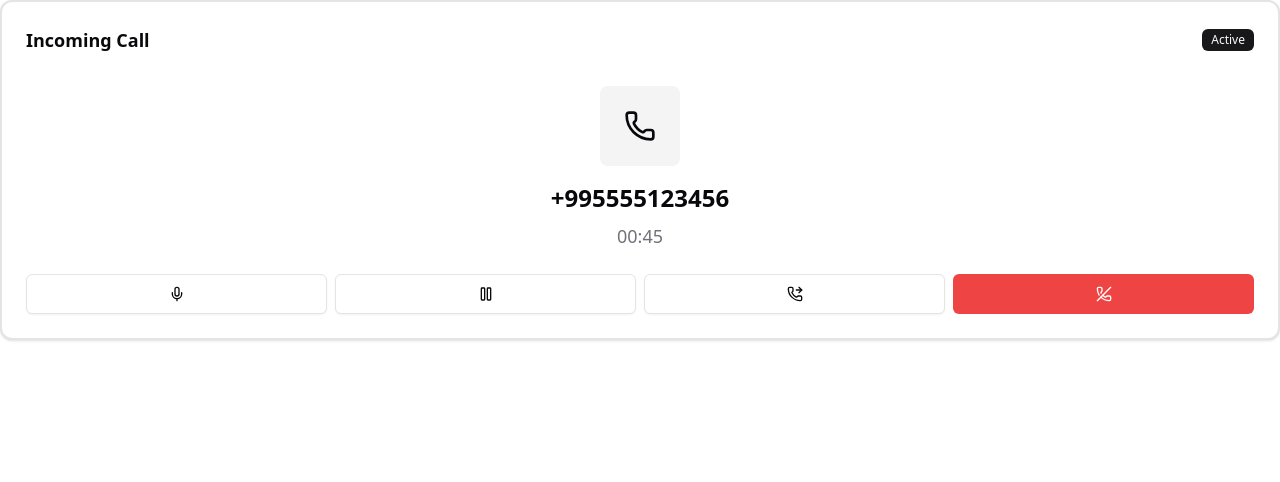
Test: ActiveCallDisplay › transfer panel › toggles transfer panel on transfer button click
// Transfer button is the 3rd button in the grid
Click the 3rd button at (794, 294), box 644,274 -> 945,314
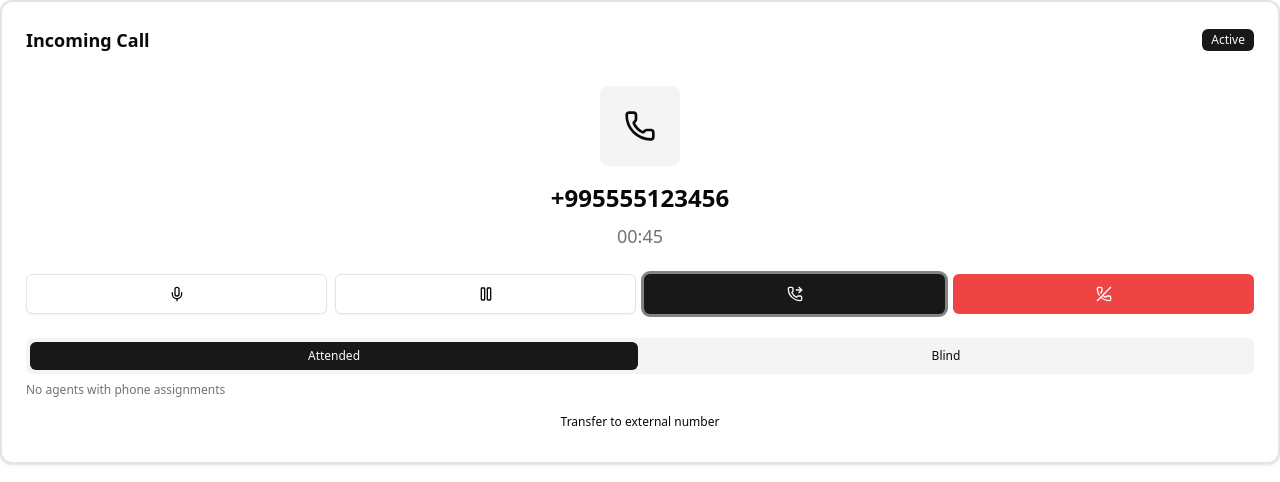
expect the button "Attended" is shown: met, box 30,342 -> 638,370
expect the button "Blind" is shown: met, box 642,342 -> 1250,370
